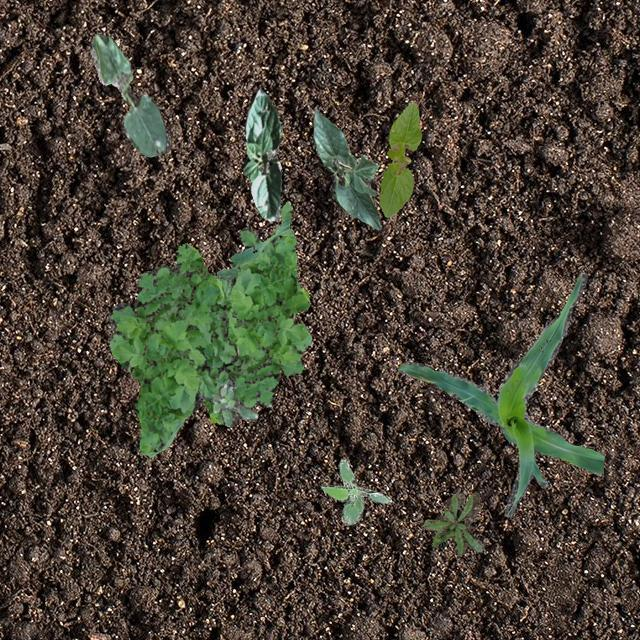crop: (397, 272, 602, 516), (90, 31, 170, 156), (312, 106, 381, 230), (242, 86, 282, 220), (378, 102, 421, 216)
weed: (108, 242, 238, 456), (202, 200, 310, 424), (320, 458, 390, 524), (422, 492, 484, 554), (210, 382, 256, 426), (216, 264, 242, 280)
